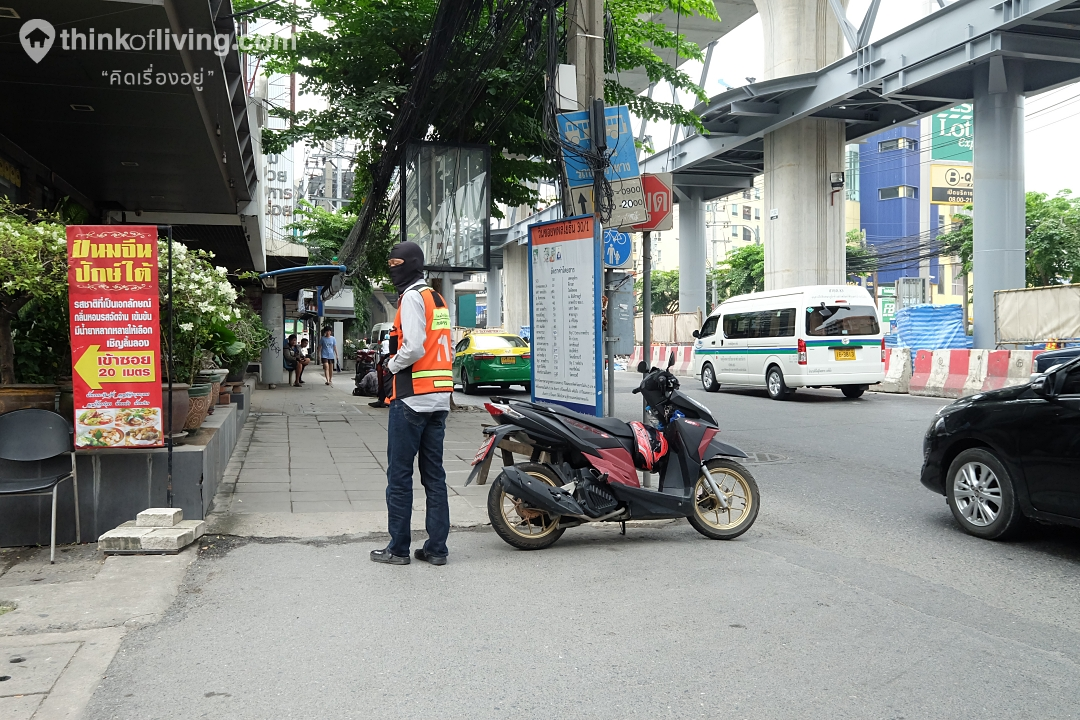motorcycle: (464, 356, 773, 552)
